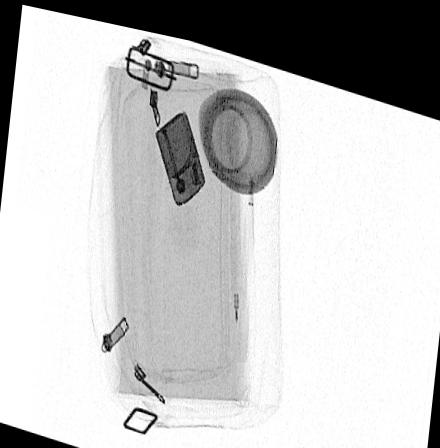Lighter: (154, 103, 205, 199)
